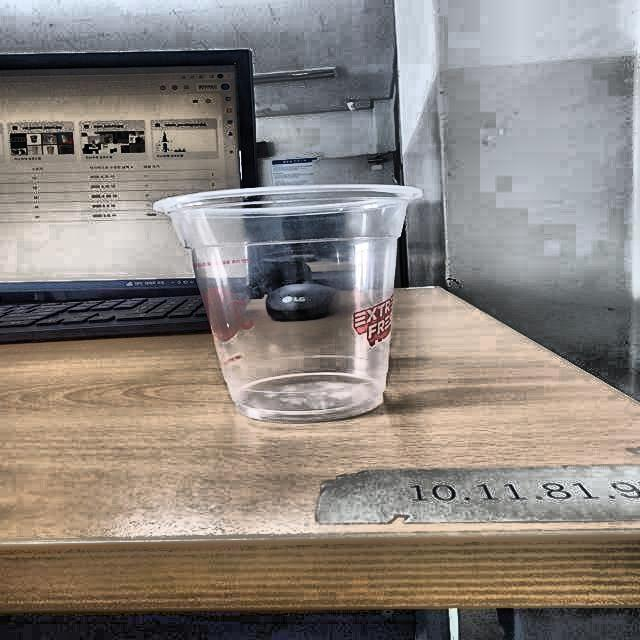plastic cup: (156, 182, 422, 424)
